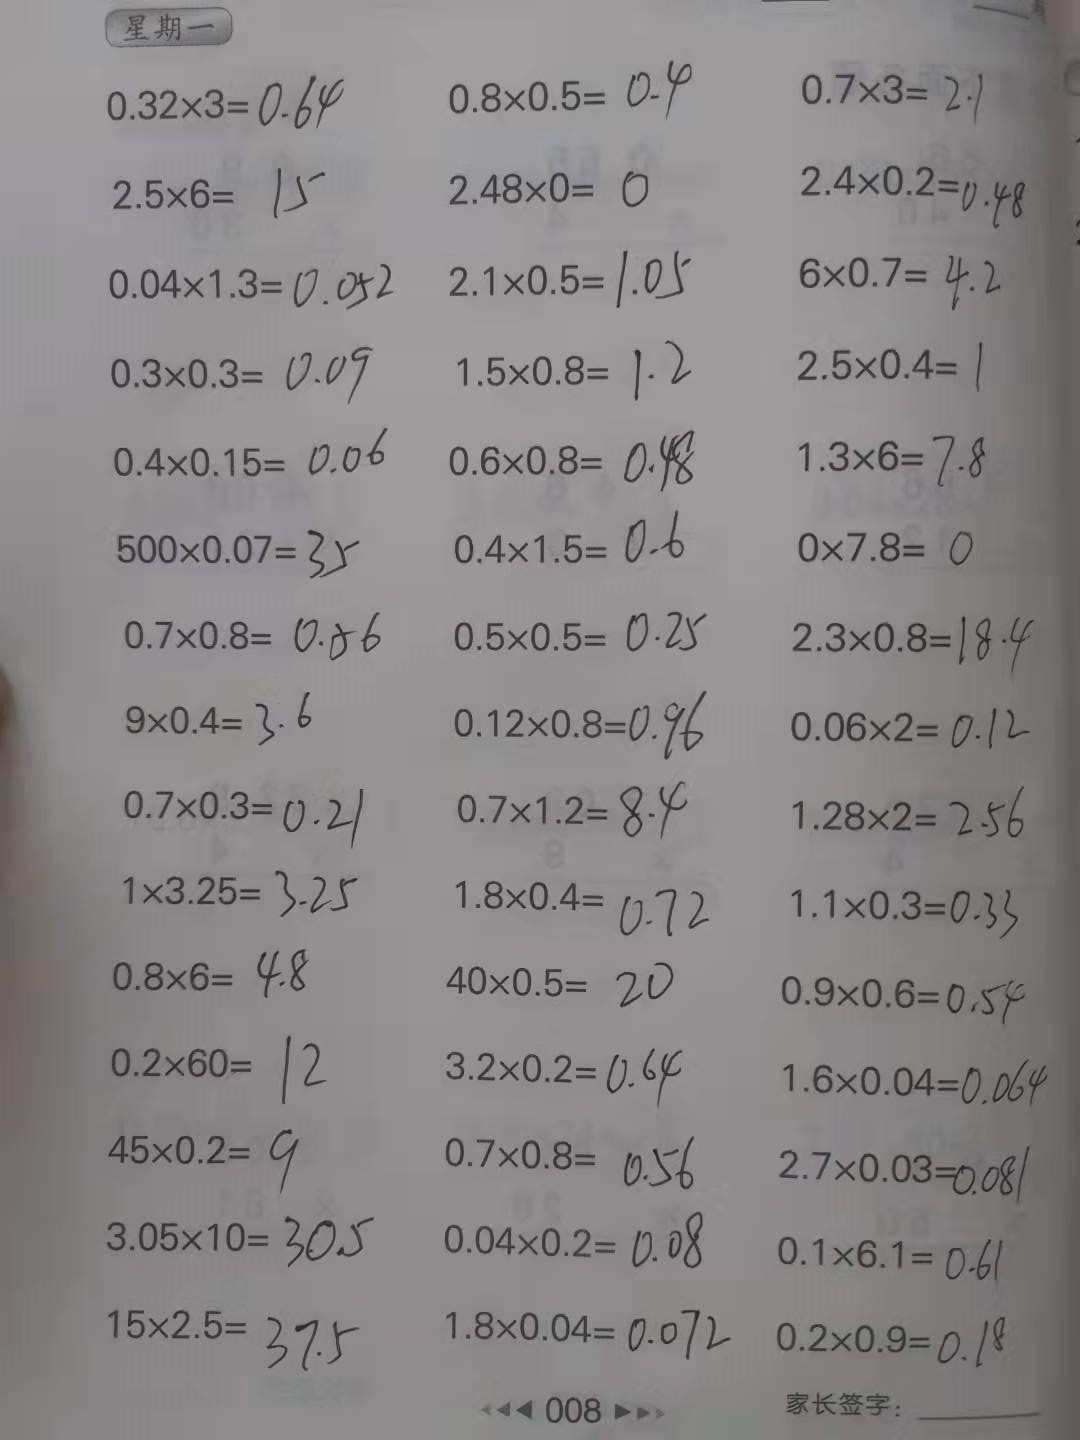equation: (442, 687, 720, 766), (447, 865, 722, 943), (444, 420, 706, 501), (436, 49, 700, 128), (98, 1296, 352, 1377), (101, 417, 399, 485), (773, 958, 1037, 1034), (784, 599, 1051, 674), (432, 1299, 735, 1365), (99, 63, 353, 141), (118, 776, 373, 852), (798, 152, 1036, 232), (437, 1040, 695, 1113), (106, 1027, 329, 1111), (452, 777, 701, 852), (441, 1208, 707, 1278), (454, 334, 706, 408), (106, 1208, 381, 1274), (100, 341, 379, 407), (440, 1127, 707, 1195), (775, 1047, 1058, 1110), (444, 251, 708, 317), (106, 254, 397, 314), (779, 778, 1035, 845), (773, 1144, 1037, 1206), (778, 694, 1032, 759), (442, 508, 699, 571), (113, 518, 368, 582), (783, 882, 1033, 946), (790, 243, 1009, 315), (115, 609, 400, 664), (99, 940, 317, 1011), (445, 607, 717, 663), (761, 1223, 1009, 1286), (766, 1314, 1013, 1377), (791, 327, 999, 400), (795, 56, 990, 134), (111, 865, 374, 923), (441, 952, 682, 1015), (108, 158, 328, 226), (115, 683, 314, 756), (106, 1126, 315, 1194), (442, 162, 663, 225), (790, 427, 990, 494), (786, 527, 989, 579)
